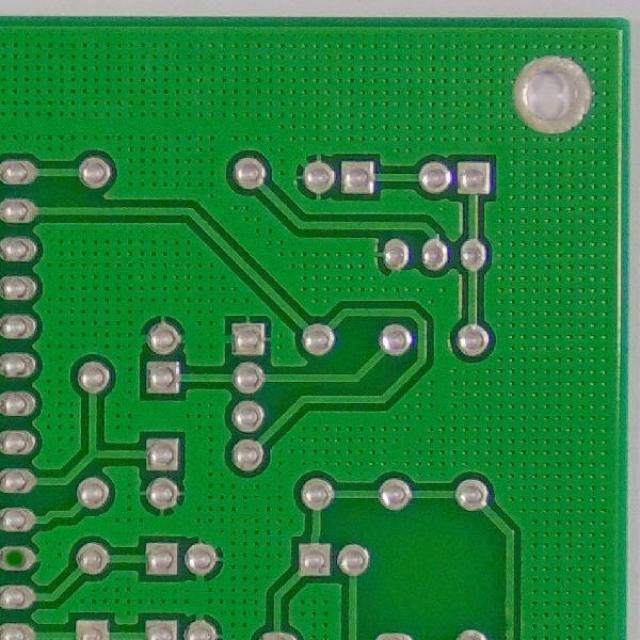missing_hole: (1, 540, 38, 577)
